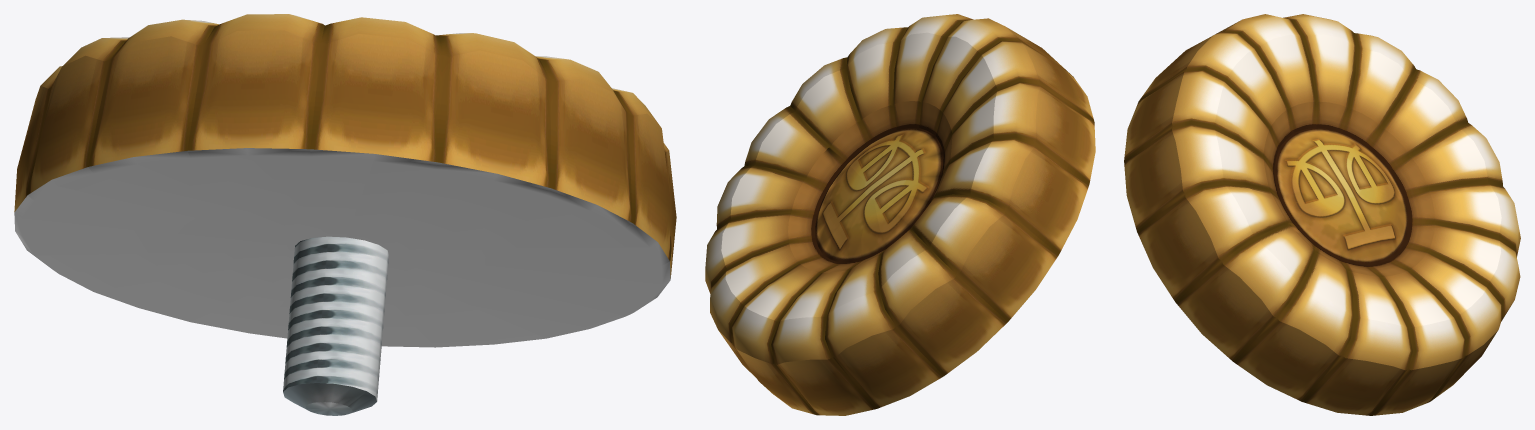
The model's file is Attorney's Badge.obj.
3 views of the same model, side by side, from view 1: azimuth 30°, elevation 25°; view 2: azimuth 150°, elevation 25°; view 3: azimuth 270°, elevation 25° (orthographic). The views are drawn at different scales.
Parts seen in each view (by area): view 1: Group_0_Sub_2__itm0000_01_material, Group_0_Sub_1__itm0000_00_material, Group_0_Sub_0__itm0000_02_material; view 2: Group_0_Sub_1__itm0000_00_material; view 3: Group_0_Sub_1__itm0000_00_material.
Part boxes in pixels (x1,y1,x2,y2): Group_0_Sub_2__itm0000_01_material: [14, 148, 670, 347]; Group_0_Sub_1__itm0000_00_material: [14, 14, 676, 278]; Group_0_Sub_0__itm0000_02_material: [283, 236, 388, 415]; Group_0_Sub_1__itm0000_00_material: [705, 14, 1095, 415]; Group_0_Sub_1__itm0000_00_material: [1124, 14, 1520, 415].
Size of the model in its own units: 0.1211 by 0.0998 by 0.1153.
